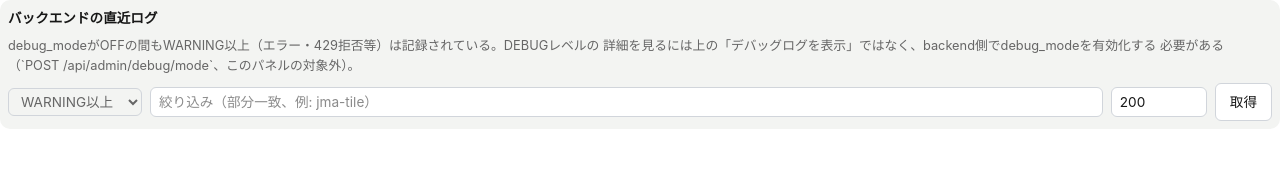
Test: BackendLogsPanel › 該当が0件なら、そう言う
This screenshot has width=1280, height=173.
Click the button "取得" at [1243, 102], box [1215,83,1272,121]
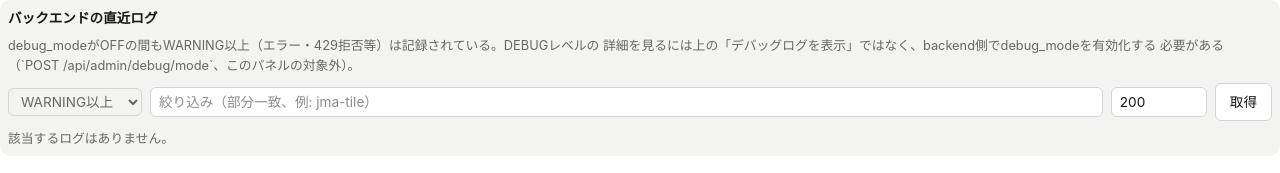
Expected: the text "該当するログはありません。" is shown, [8,131,174,146]
